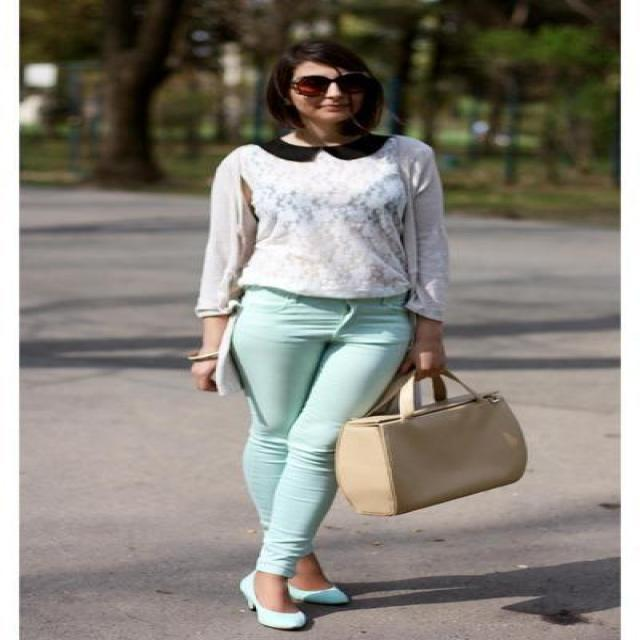bag: (336, 387, 526, 515)
pants: (222, 285, 432, 573)
shirt: (195, 115, 470, 317)
shoe: (240, 569, 346, 626)
sunglass: (293, 71, 381, 108)
